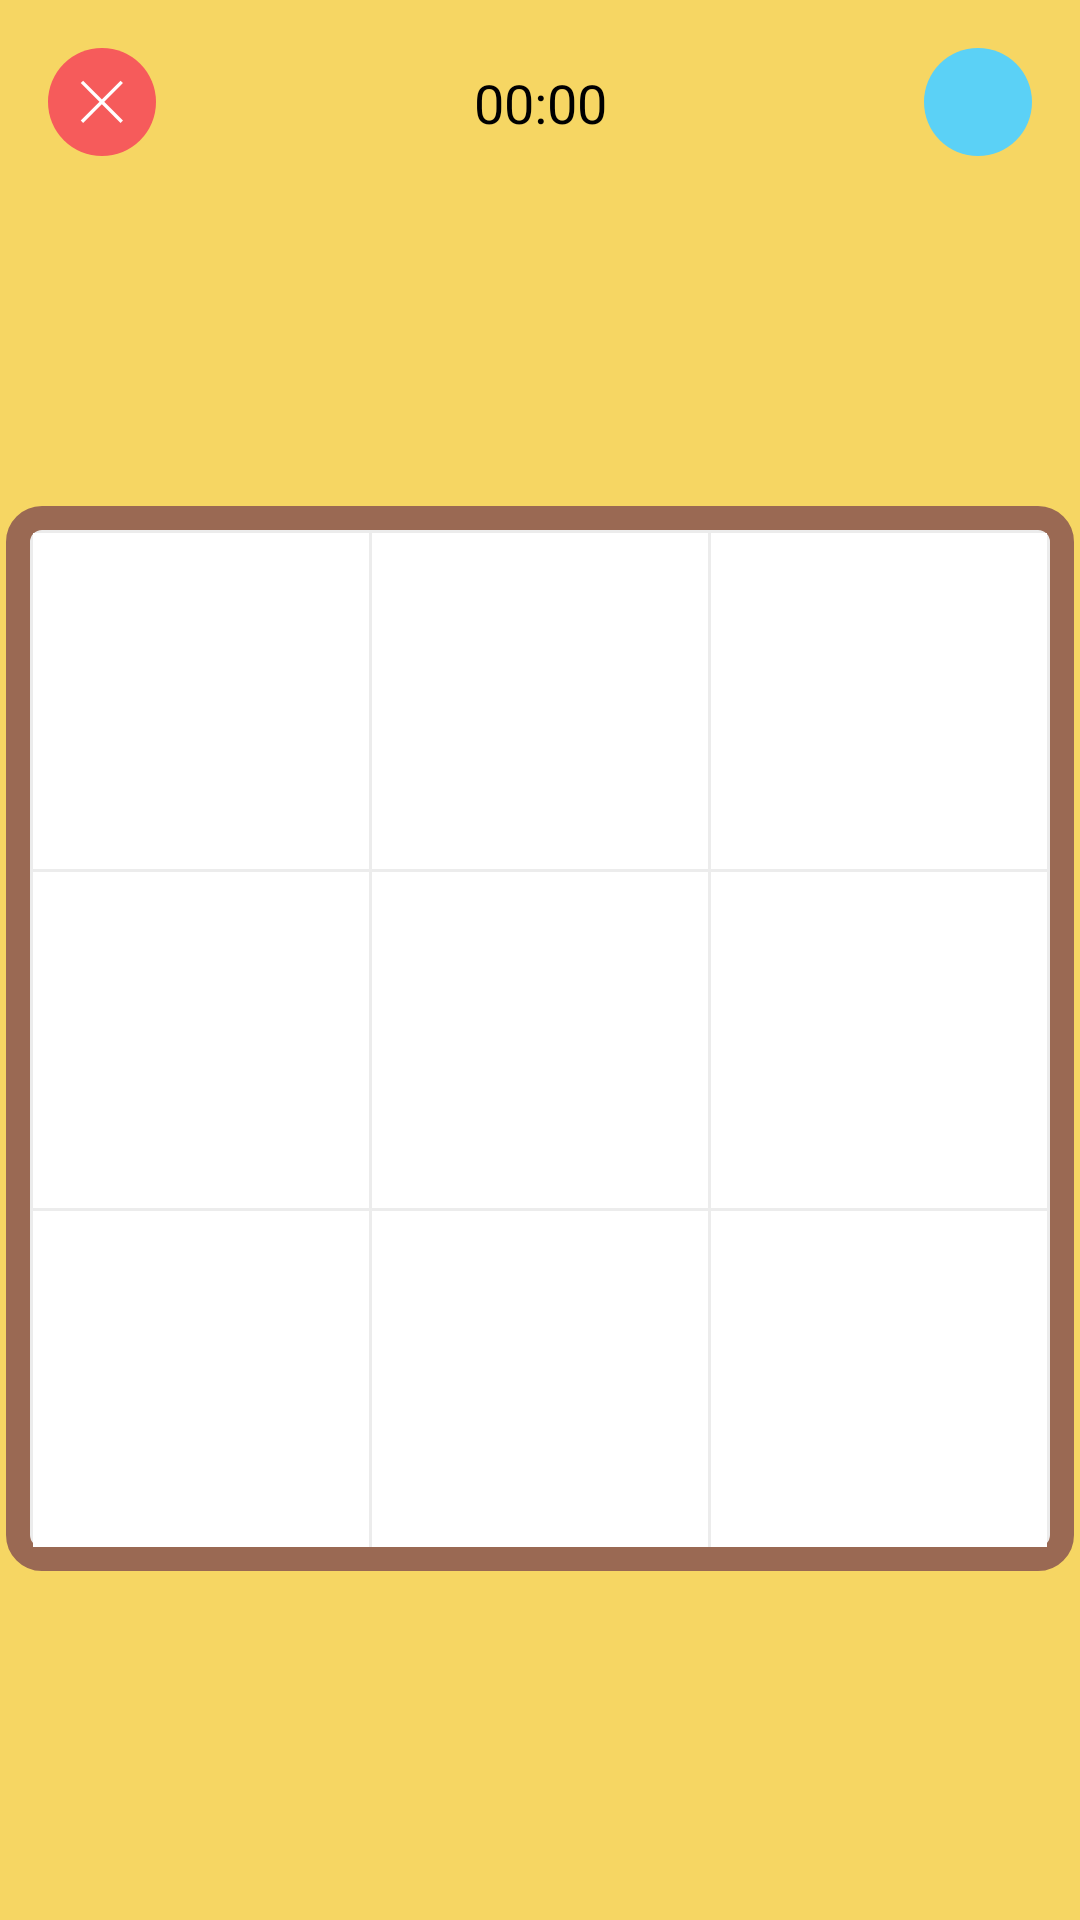

Locate icon controls on the screen. Image size 1080 × 1920, boxes as box(x1, y1, x2, y2).
close game: box(48, 48, 156, 156)
